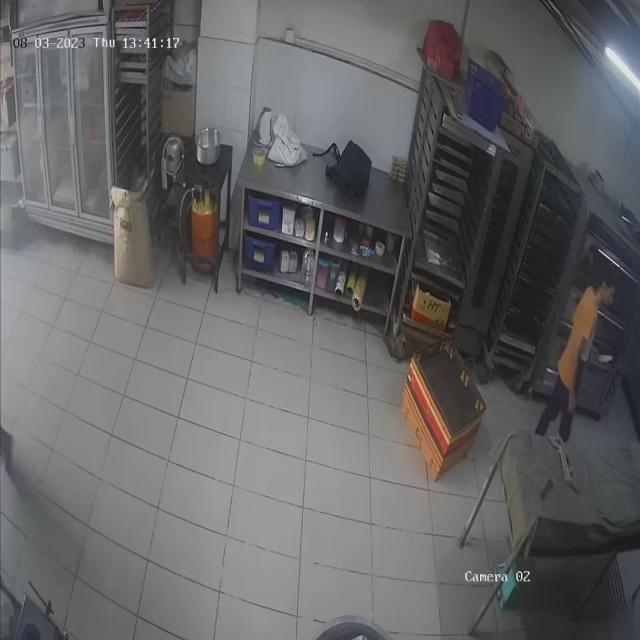Knife: (591, 345, 622, 373)
